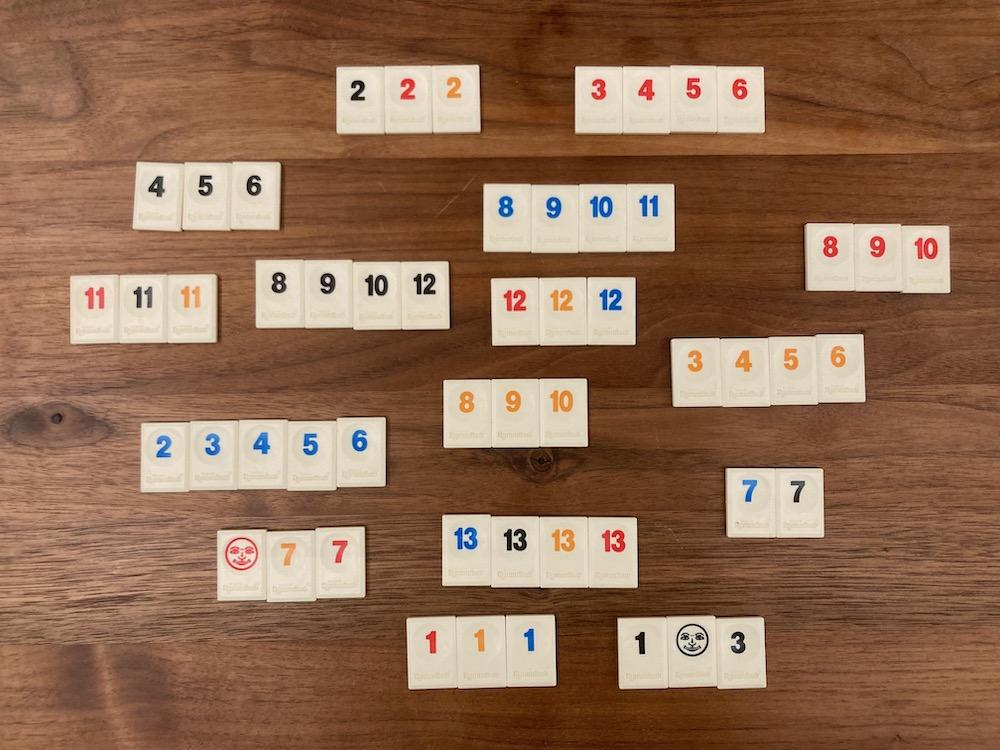black_1: (619, 617, 666, 689)
black_10: (354, 262, 400, 330)
black_11: (119, 275, 166, 342)
black_12: (402, 262, 449, 330)
black_13: (490, 517, 539, 588)
black_2: (336, 66, 385, 135)
black_3: (717, 617, 765, 688)
black_4: (133, 162, 184, 230)
black_5: (182, 165, 232, 230)
black_6: (230, 163, 281, 230)
black_7: (777, 469, 824, 537)
black_8: (256, 260, 305, 328)
black_9: (305, 260, 354, 328)
blue_1: (507, 615, 556, 687)
blue_10: (578, 184, 627, 252)
blue_11: (627, 184, 674, 252)
blue_12: (588, 277, 635, 346)
blue_13: (441, 515, 490, 586)
blue_2: (141, 424, 189, 492)
blue_3: (189, 422, 238, 490)
blue_4: (238, 420, 287, 488)
blue_5: (287, 422, 336, 490)
blue_6: (336, 419, 387, 486)
blue_7: (726, 469, 775, 537)
blue_8: (482, 185, 531, 252)
blue_9: (531, 186, 580, 252)
joker: (217, 530, 266, 600), (667, 617, 716, 686)
orange_1: (457, 617, 506, 688)
orange_10: (539, 379, 588, 447)
orange_11: (168, 275, 217, 342)
orange_12: (539, 277, 586, 346)
orange_13: (539, 518, 588, 588)
orange_2: (432, 65, 479, 133)
orange_3: (672, 338, 721, 406)
orange_4: (723, 338, 769, 406)
orange_5: (768, 338, 817, 404)
orange_6: (817, 334, 864, 402)
orange_7: (268, 531, 314, 602)
orange_8: (443, 379, 492, 447)
orange_9: (492, 379, 539, 447)
red_1: (408, 617, 456, 688)
red_10: (902, 227, 949, 293)
red_11: (70, 275, 119, 344)
red_12: (491, 279, 539, 346)
red_13: (588, 518, 637, 588)
red_2: (385, 66, 432, 133)
red_3: (574, 67, 623, 135)
red_4: (623, 66, 670, 135)
red_5: (670, 66, 717, 133)
red_6: (717, 66, 764, 133)
red_7: (316, 527, 365, 598)
red_8: (805, 223, 854, 291)
red_9: (854, 225, 902, 291)
